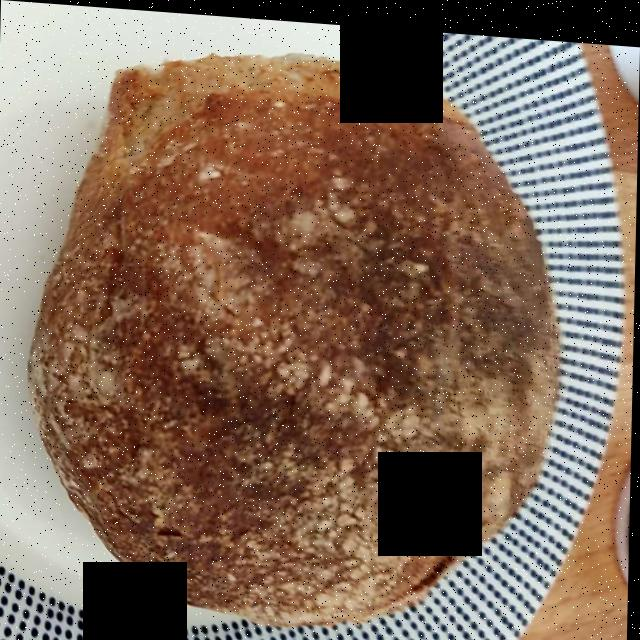roll-of-half-white-or-white-flour-with-large-void: (43, 56, 551, 616)
